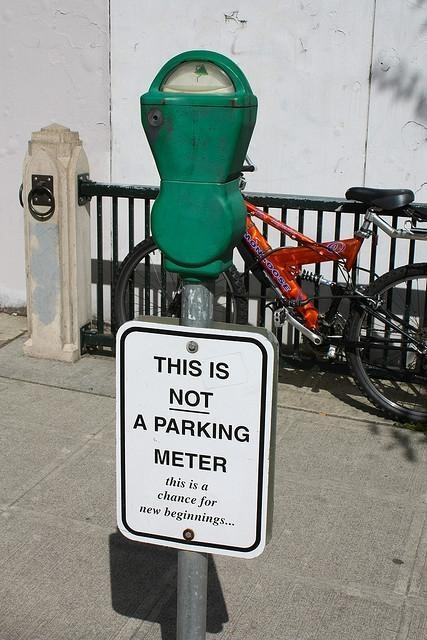bicycle: (112, 186, 427, 428)
